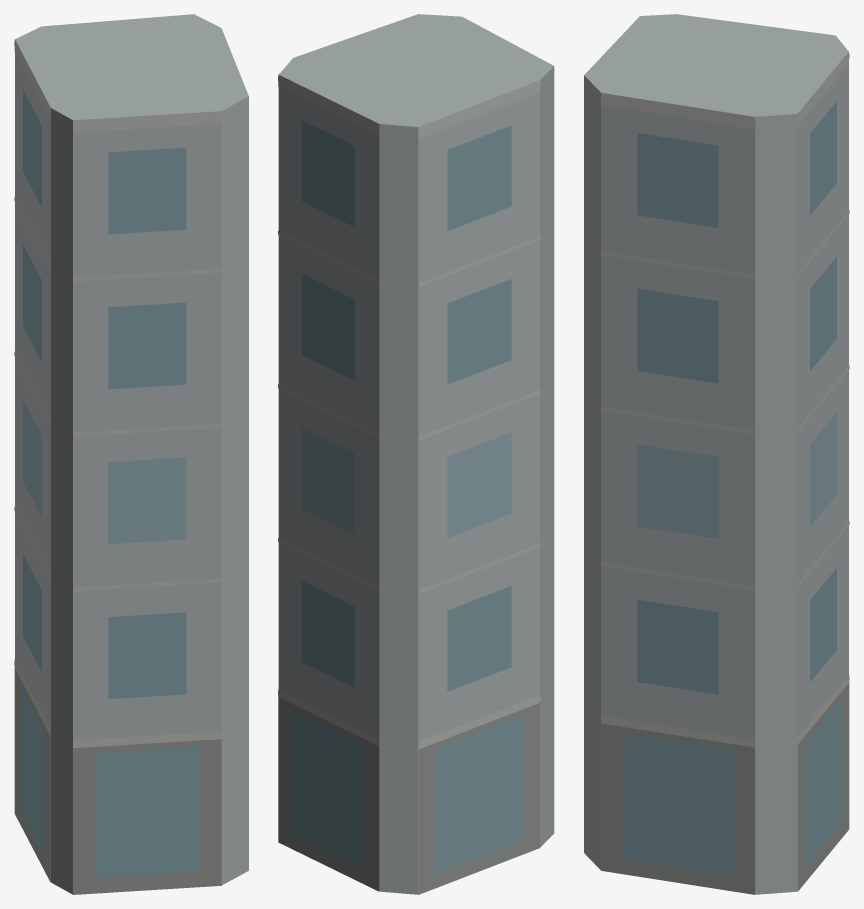
Rendered from survey-upis-32951116.glb.
3 renders of one model, left to right at view 1: azimuth 30°, elevation 25°; view 2: azimuth 150°, elevation 25°; view 3: azimuth 270°, elevation 25°, orthographic.
Parts seen in each view (by area): view 1: survey-upis-32951116.tmp; view 2: survey-upis-32951116.tmp; view 3: survey-upis-32951116.tmp.
Part boxes in pixels (<box>): survey-upis-32951116.tmp: <box>14,14,248,894</box>; survey-upis-32951116.tmp: <box>278,14,554,894</box>; survey-upis-32951116.tmp: <box>584,14,849,894</box>.
Bounding box in the file's own units: 4.35 × 15.25 × 4.73.
